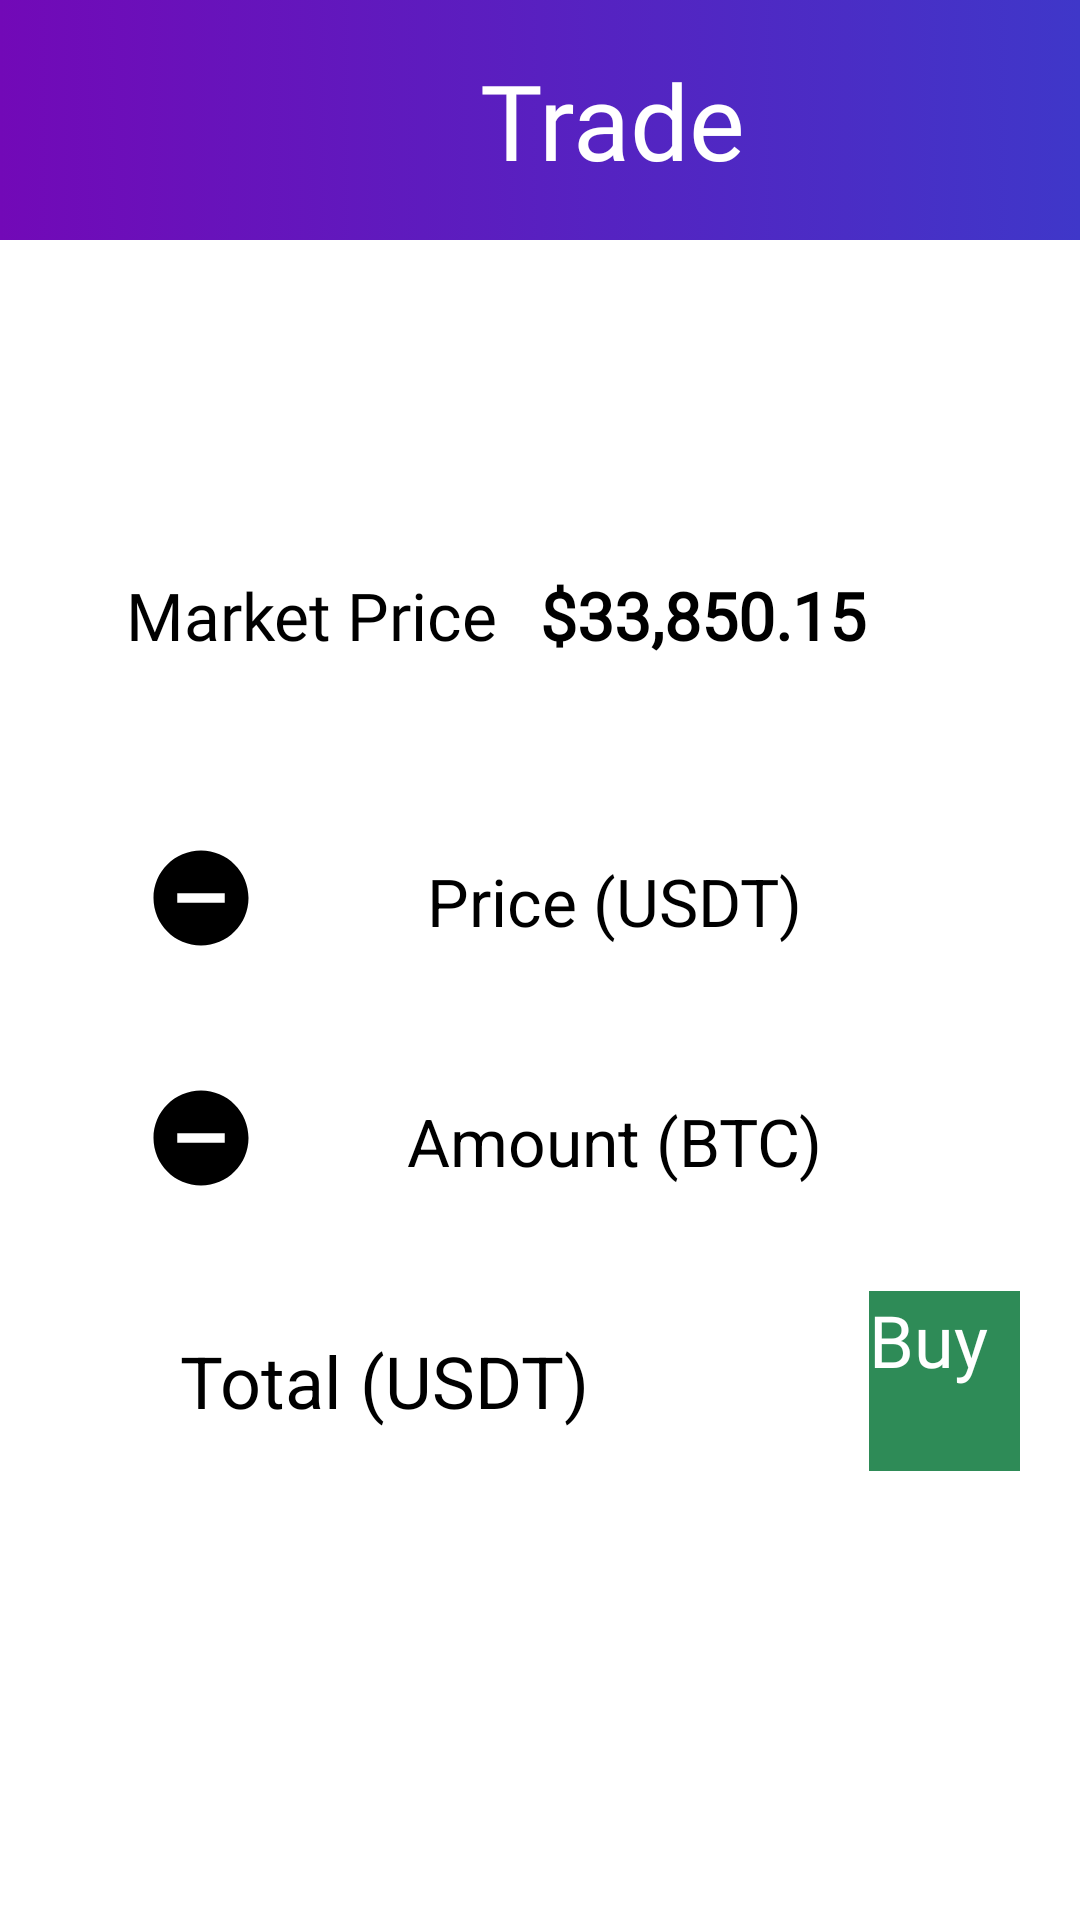

Icons on this 1080*1920 Android screen, each with its box as (x1, y1, x2, y2):
do not disturb on: (153, 850, 249, 946), (153, 1090, 249, 1186)
